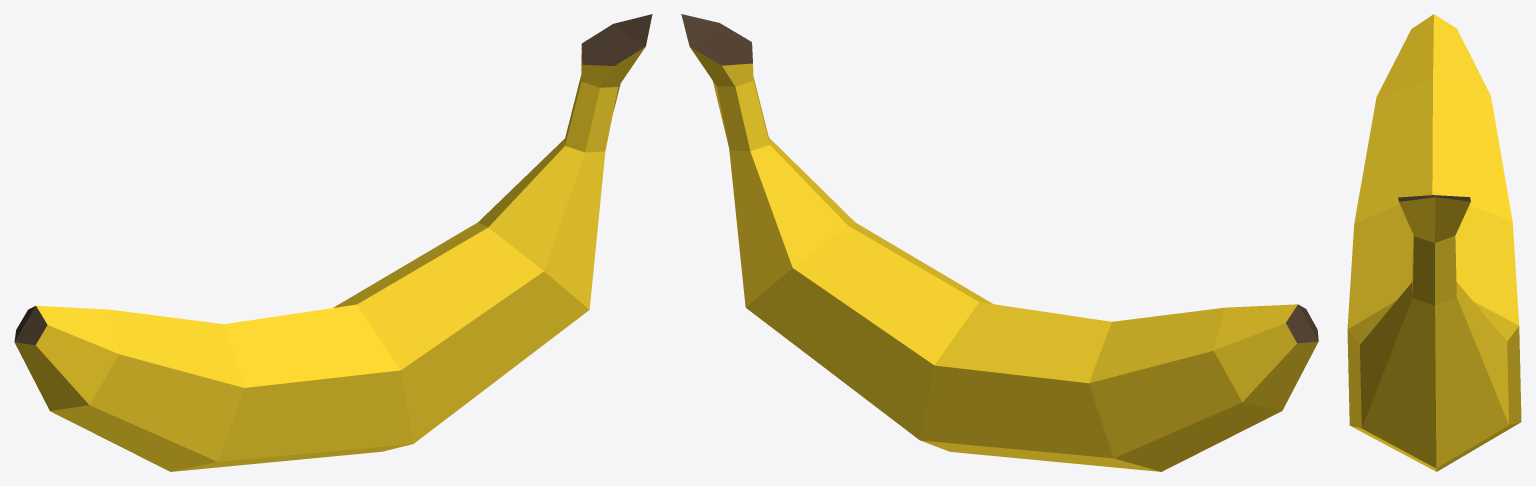
File: food_banana.fbx
The picture shows the model from 3 angles, left to right: view 1: azimuth 30°, elevation 25°; view 2: azimuth 150°, elevation 25°; view 3: azimuth 270°, elevation 25°; orthographic projection. The views are drawn at different scales.
Parts seen in each view (by area): view 1: food_banana; view 2: food_banana; view 3: food_banana.
Boxes of the visible parts, x1=… form: food_banana: x1=14, y1=14, x2=652, y2=471; food_banana: x1=681, y1=14, x2=1318, y2=471; food_banana: x1=1347, y1=14, x2=1521, y2=471.
Size of the model in its own units: 200 by 111 by 41.37.
